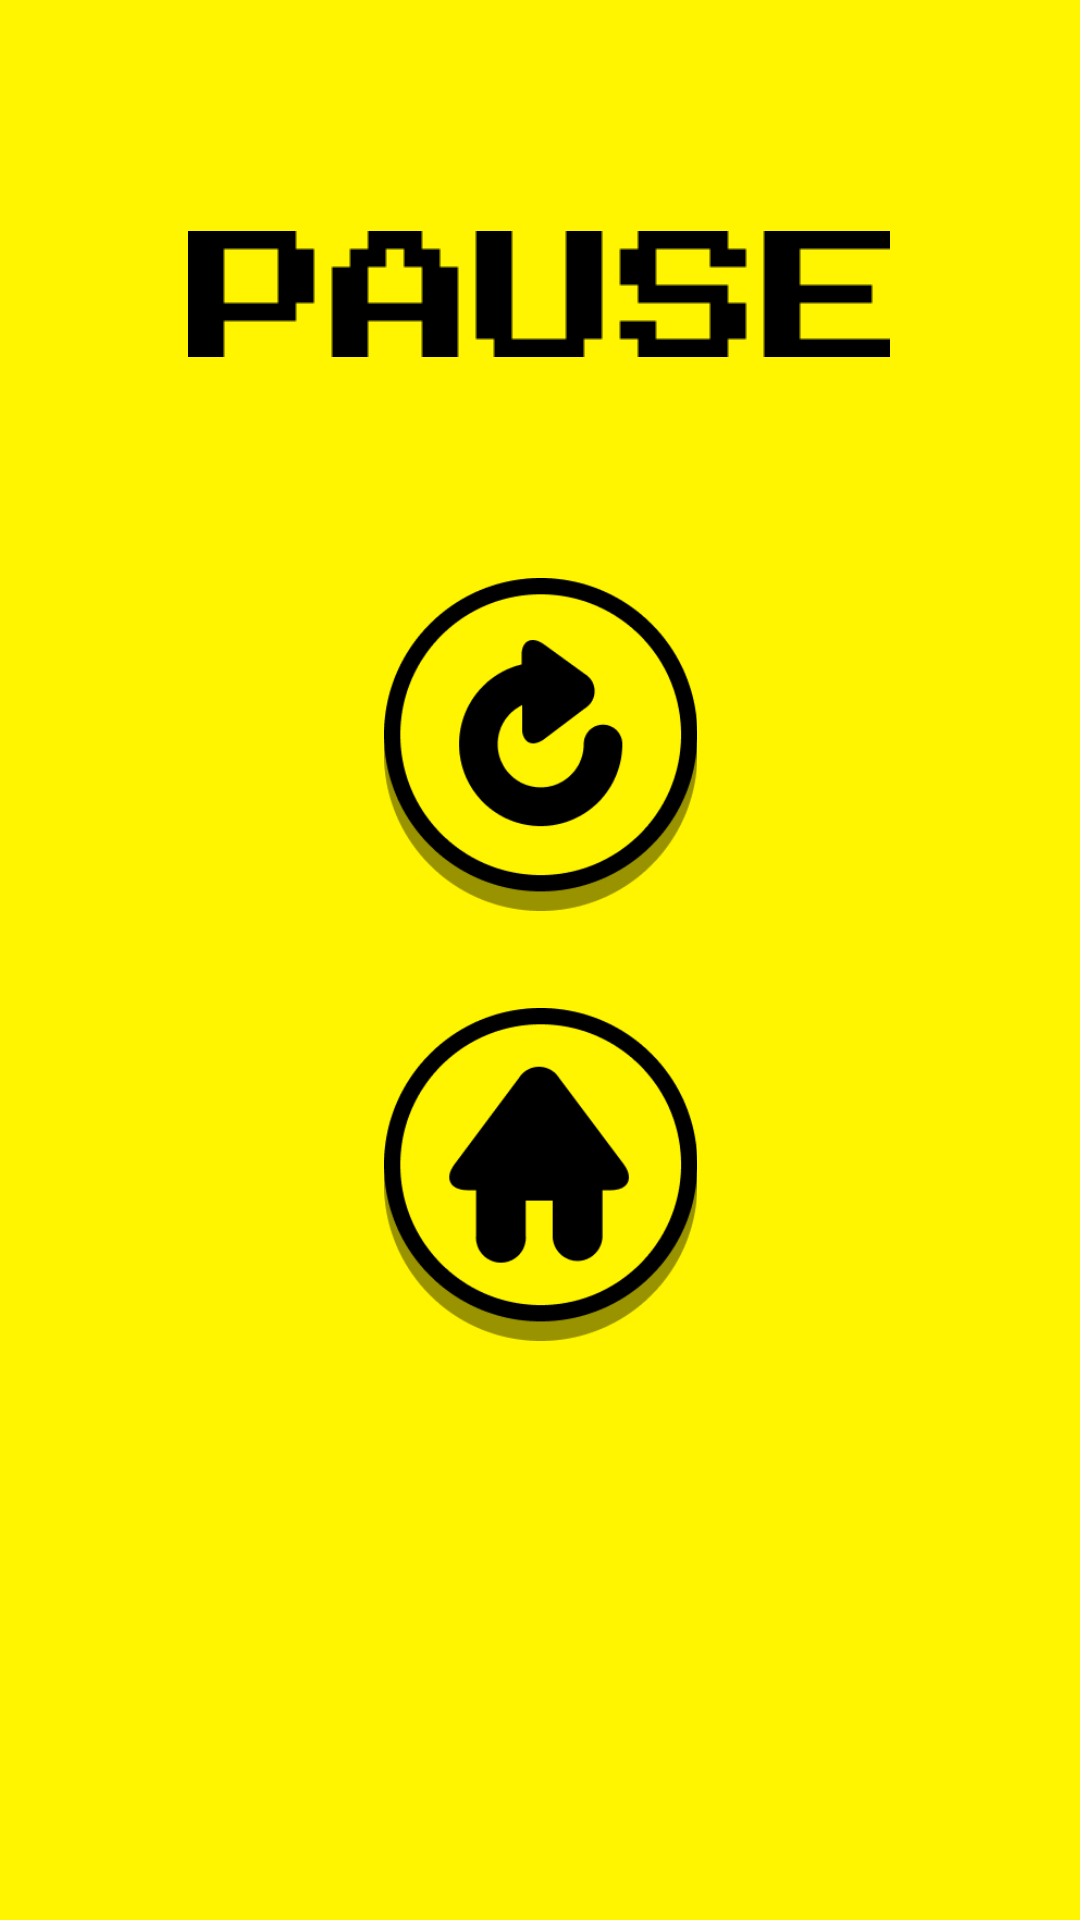

Locate icon controls on the screen. Image size 1080w x 1920h, boxes as (x1, y1, x2, y2).
imb home: (384, 1008, 697, 1341)
imb restart: (384, 578, 697, 911)
